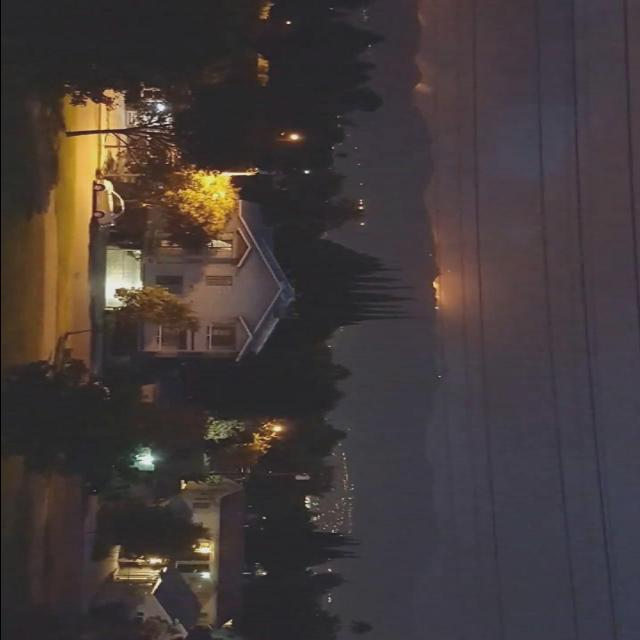Fire: (428, 278, 444, 302)
